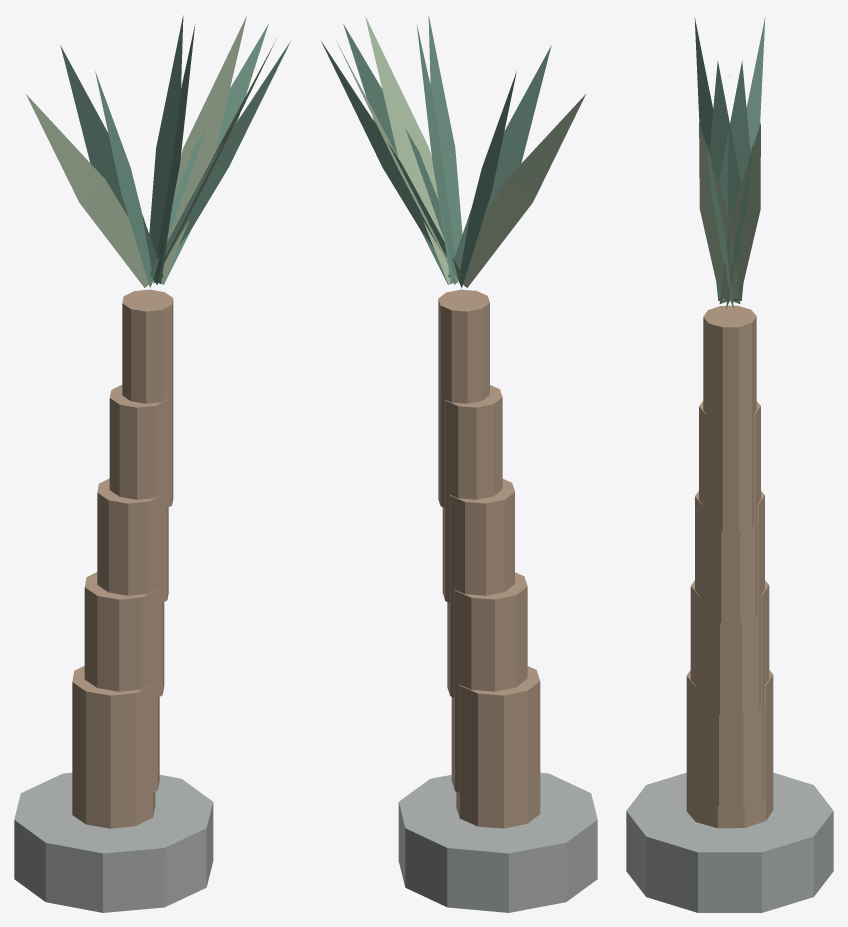
File: yaba_palm_tree.glb
3 renders of one model, left to right at view 1: azimuth 30°, elevation 25°; view 2: azimuth 150°, elevation 25°; view 3: azimuth 270°, elevation 25°, orthographic.
Parts seen in each view (by area): view 1: palm_planter, palm_trunk_0, palm_trunk_1, palm_trunk_2, palm_trunk_3, palm_trunk_4, palm_frond_0, palm_frond_3, palm_frond_7, palm_frond_5, palm_frond_8, palm_frond_1 (+3 smaller); view 2: palm_planter, palm_trunk_0, palm_trunk_1, palm_trunk_2, palm_trunk_3, palm_trunk_4, palm_frond_0, palm_frond_6, palm_frond_4, palm_frond_2, palm_frond_1, palm_frond_8 (+3 smaller); view 3: palm_planter, palm_trunk_4, palm_trunk_1, palm_trunk_2, palm_trunk_3, palm_trunk_0, palm_frond_3, palm_frond_6, palm_frond_2, palm_frond_7, palm_frond_8, palm_frond_1 (+2 smaller).
Boxes of the visible parts, left/top/right/bottom form: palm_planter: left=14, top=772, right=213, bottom=912; palm_trunk_0: left=72, top=666, right=155, bottom=828; palm_trunk_1: left=84, top=572, right=159, bottom=792; palm_trunk_2: left=97, top=478, right=164, bottom=697; palm_trunk_3: left=109, top=385, right=168, bottom=602; palm_trunk_4: left=122, top=289, right=173, bottom=507; palm_frond_0: left=26, top=94, right=148, bottom=287; palm_frond_3: left=161, top=16, right=246, bottom=284; palm_frond_7: left=149, top=15, right=183, bottom=283; palm_frond_5: left=150, top=41, right=290, bottom=280; palm_frond_8: left=60, top=45, right=163, bottom=277; palm_frond_1: left=95, top=71, right=153, bottom=288; palm_planter: left=398, top=772, right=597, bottom=912; palm_trunk_0: left=456, top=666, right=540, bottom=828; palm_trunk_1: left=451, top=572, right=527, bottom=792; palm_trunk_2: left=447, top=479, right=514, bottom=697; palm_trunk_3: left=442, top=385, right=502, bottom=602; palm_trunk_4: left=438, top=289, right=489, bottom=507; palm_frond_0: left=463, top=94, right=585, bottom=287; palm_frond_6: left=365, top=16, right=450, bottom=284; palm_frond_4: left=321, top=41, right=462, bottom=280; palm_frond_2: left=428, top=15, right=462, bottom=283; palm_frond_1: left=448, top=45, right=551, bottom=277; palm_frond_8: left=458, top=71, right=516, bottom=288; palm_planter: left=626, top=772, right=833, bottom=912; palm_trunk_4: left=703, top=305, right=756, bottom=531; palm_trunk_1: left=690, top=580, right=769, bottom=805; palm_trunk_2: left=695, top=491, right=764, bottom=714; palm_trunk_3: left=699, top=401, right=760, bottom=623; palm_trunk_0: left=686, top=670, right=773, bottom=828; palm_frond_3: left=719, top=123, right=760, bottom=303; palm_frond_6: left=699, top=123, right=740, bottom=303; palm_frond_2: left=709, top=60, right=741, bottom=300; palm_frond_7: left=718, top=60, right=750, bottom=300; palm_frond_8: left=722, top=17, right=765, bottom=300; palm_frond_1: left=694, top=17, right=737, bottom=300.
Size of what is drawn, in the model's own units: 1.79 by 5.66 by 1.24.
